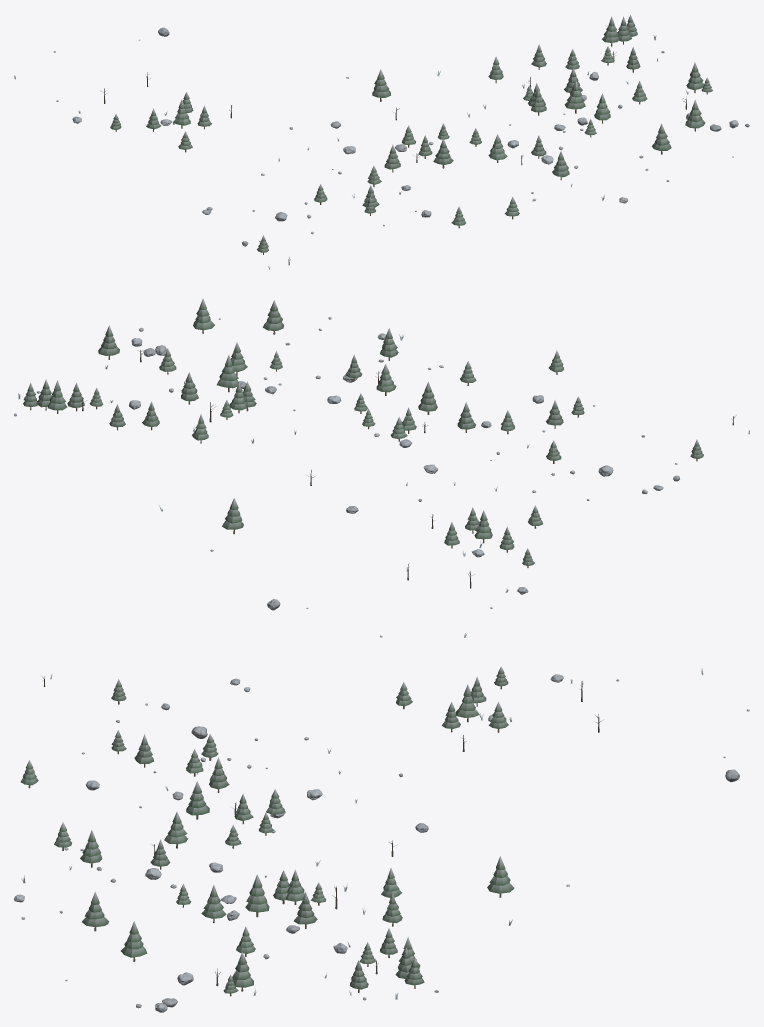
File: frost_land_scatter_c15_10.glb
3 renders of one model, top to bottom at view 1: azimuth 30°, elevation 25°; view 2: azimuth 150°, elevation 25°; view 3: azimuth 270°, elevation 25°, orthographic. The views are drawn at different scales.
Visible parts, largest first — view 1: frost_land_scatter_c15_10; view 2: frost_land_scatter_c15_10; view 3: frost_land_scatter_c15_10.
Part boxes in pixels (left/top/right/bottom): frost_land_scatter_c15_10: left=14, top=15, right=749, bottom=269; frost_land_scatter_c15_10: left=14, top=298, right=749, bottom=637; frost_land_scatter_c15_10: left=14, top=666, right=749, bottom=1012.
Size of the model in its own units: 255 by 31.3 by 243.
